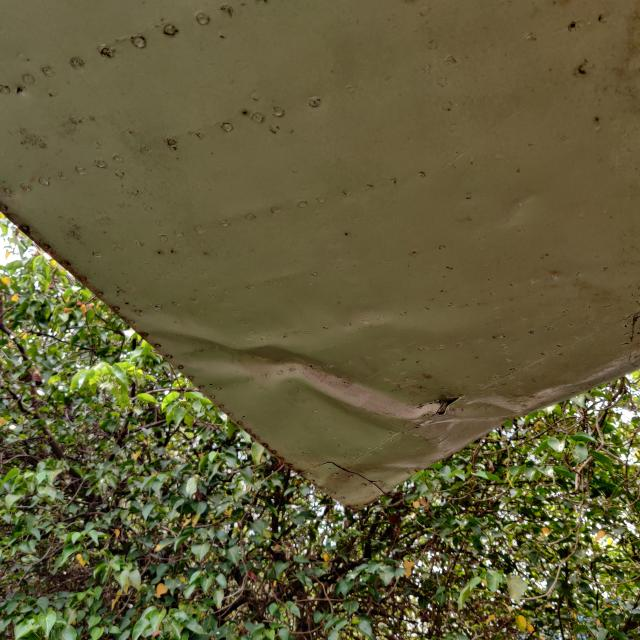crack: (406, 393, 452, 412)
dent: (130, 301, 441, 436), (461, 352, 624, 428), (302, 447, 431, 510)
